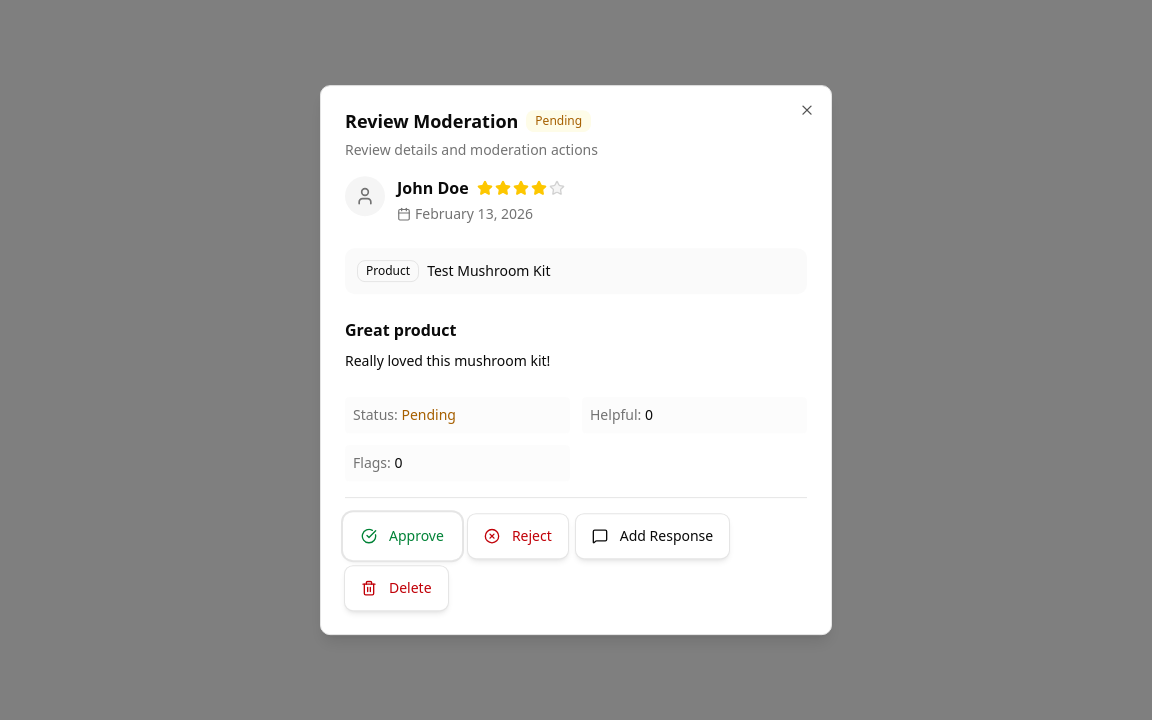
Test: ReviewModerationModal › admin response › shows response form when Add Response clicked
This screenshot has width=1152, height=720.
Click the button "Add Response".
click(653, 536)  # box top-left (576, 514), bottom-right (729, 558)
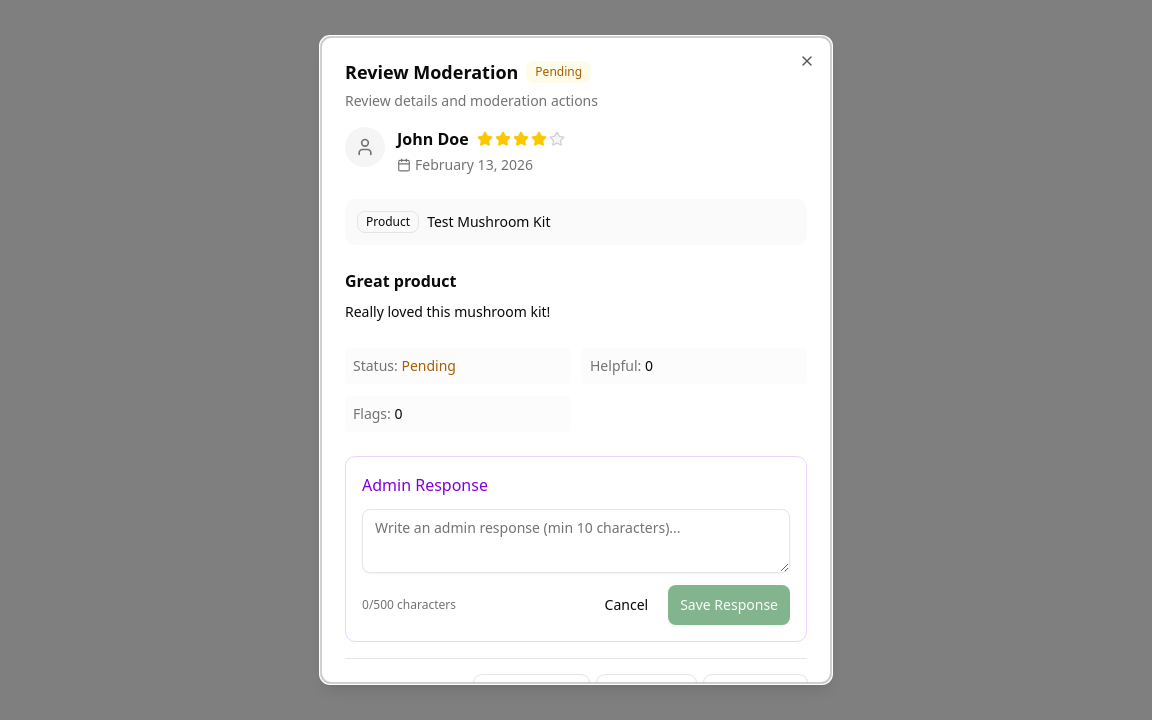
Result: the heading "Admin Response" is shown at top-left (362, 474), bottom-right (488, 496)
Result: the text box with placeholder "Write an admin response (min 10 characters)..." is shown at top-left (362, 509), bottom-right (790, 573)
